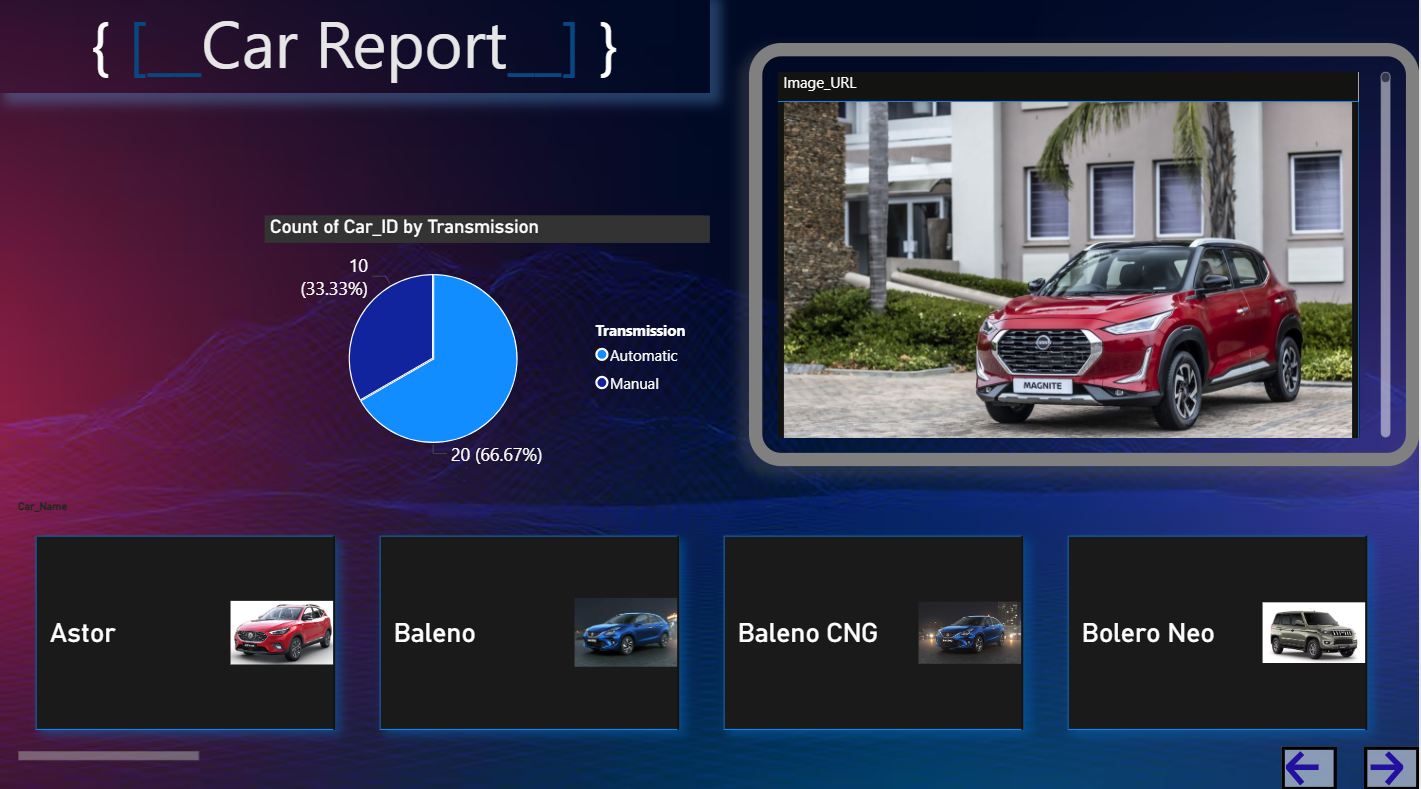

The page's visual inventory and layout, read from the dashboard file:
{"tool":"powerbi","page":{"name":"Page 1","canvas":[1280,720],"ordinal":0},"visuals":[{"type":"pivotTable","fields":{"Rows":["Car_Dashboard_Final_30Cars (1) (1).Image_URL"]},"box":[675.3,45.4,604.2,381.6],"z":0},{"type":"pieChart","fields":{"Category":["Car_Dashboard_Final_30Cars (1) (1).Transmission"],"Y":["CountNonNull(Car_Dashboard_Final_30Cars (1) (1).Car_ID)"]},"box":[239.2,201.4,401.3,237.7],"z":1000},{"type":"advancedSlicerVisual","fields":{"Values":["Car_Dashboard_Final_30Cars (1) (1).Car_Name"]},"box":[12.1,458.8,1243.2,240.8],"z":2000},{"type":"textbox","box":[0,0,640.5,90.9],"z":3000},{"type":"actionButton","box":[1229.5,679.9,50,39.4],"z":4000},{"type":"actionButton","box":[1155.3,679.9,50,39.4],"z":5000}]}

Visuals, with their boxes in screenshot pixels (x1, y1, x2, y2), scaled from the page's 1280x720 canvas onto the 1421x789 screenshot:
pivotTable - Car_Dashboard_Final_30Cars (1) (1).Image_URL: detection(750, 50, 1420, 468)
pieChart - Car_Dashboard_Final_30Cars (1) (1).Transmission x CountNonNull(Car_Dashboard_Final_30Cars (1) (1).Car_ID): detection(266, 221, 711, 481)
advancedSlicerVisual - Car_Dashboard_Final_30Cars (1) (1).Car_Name: detection(13, 503, 1394, 767)
textbox: detection(0, 0, 711, 100)
actionButton: detection(1365, 745, 1420, 788)
actionButton: detection(1283, 745, 1338, 788)
